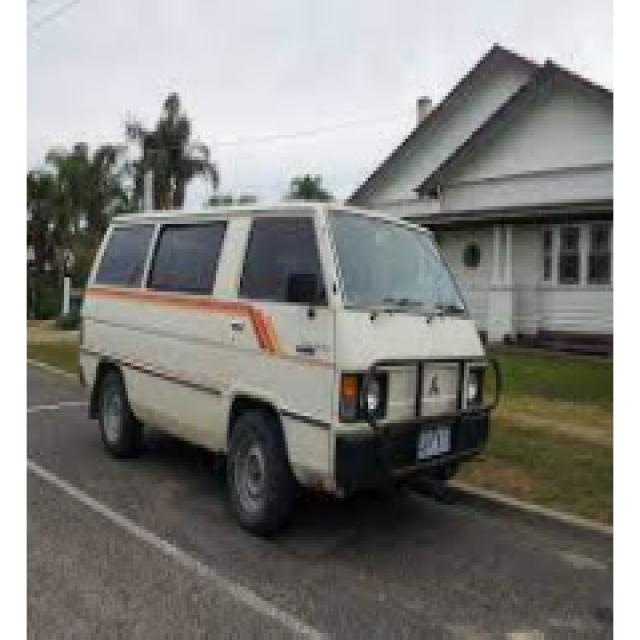Van: (82, 207, 498, 540)
